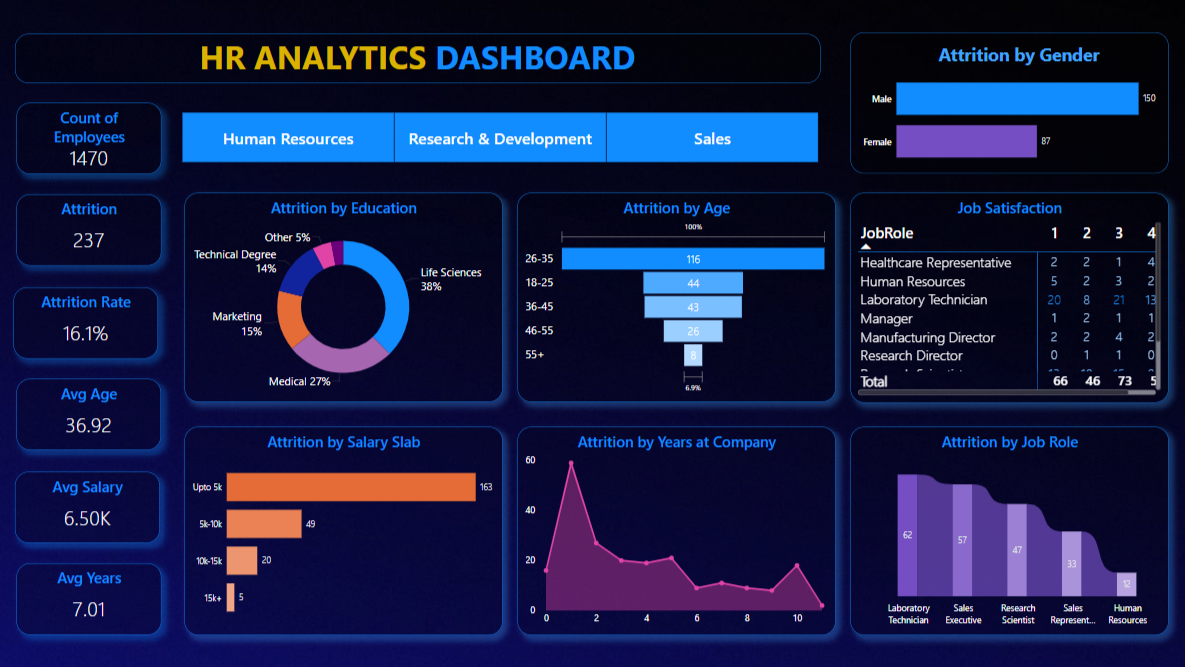

The page's visual inventory and layout, read from the dashboard file:
{"tool":"powerbi","page":{"name":"Page 1","canvas":[2200,1238],"ordinal":0},"visuals":[{"type":"textbox","box":[50.1,67.5,1468.7,90.3],"z":0},{"type":"card","title":"Count of Employees","fields":{"Values":["CountNonNull(HR_Analytics.EmpID)"]},"box":[50.4,194.6,263.7,130],"z":1000,"group":"g2"},{"type":"slicer","fields":{"Values":["HR_Analytics.Department"]},"box":[334.6,205.9,1203.4,103.9],"z":1000},{"type":"group","id":"g1","title":"Group 2","box":[1571.9,65.7,579.8,306.3],"z":2000},{"type":"group","id":"g2","title":"Group 3","box":[45.2,194.6,269,970],"z":3000},{"type":"card","title":"Attrition","fields":{"Values":["Sum(HR_Analytics.AttritionCount)"]},"box":[50.4,362.5,263.7,130],"z":3000,"group":"g2"},{"type":"donutChart","title":"Attrition by Education","fields":{"Category":["HR_Analytics.EducationField"],"Y":["Sum(HR_Analytics.AttritionCount)"]},"box":[358.5,358.6,579.7,381.2],"z":4000,"group":"g3"},{"type":"card","title":"Attrition Rate","fields":{"Values":["HR_Analytics.AttritionRate"]},"box":[45.2,530.4,263,130],"z":5000,"group":"g2"},{"type":"card","title":"Avg Age","fields":{"Values":["Avg(HR_Analytics.Age)"]},"box":[50.4,698.3,263,130],"z":6000,"group":"g2"},{"type":"barChart","title":"Attrition by Salary Slab","fields":{"Category":["HR_Analytics.SalarySlab"],"Y":["Sum(HR_Analytics.AttritionCount)"]},"box":[358.3,785,579.8,380.2],"z":7000,"group":"g3"},{"type":"barChart","title":"Attrition by Gender","fields":{"Category":["HR_Analytics.Gender"],"Y":["Sum(HR_Analytics.AttritionCount)"]},"box":[1588.5,73.6,550.7,298.4],"z":8000,"group":"g4"},{"type":"card","title":"Avg Years","fields":{"Values":["Avg(HR_Analytics.YearsAtCompany)"]},"box":[50.4,1034.1,263.7,130.6],"z":8000,"group":"g2"},{"type":"card","title":"Avg Salary","fields":{"Values":["Avg(HR_Analytics.MonthlyIncome)"]},"box":[47.8,866.2,263.7,130],"z":9000,"group":"g2"},{"type":"ribbonChart","title":"Attrition by Job Role","fields":{"Category":["HR_Analytics.JobRole"],"Y":["Sum(HR_Analytics.AttritionCount)"]},"box":[1572.6,785,579.8,380.2],"z":10000,"group":"g3"},{"type":"funnel","title":"Attrition by Age","fields":{"Category":["HR_Analytics.AgeGroup"],"Y":["Sum(HR_Analytics.AttritionCount)"]},"box":[966,358.6,579.7,381.2],"z":11000,"group":"g3"},{"type":"areaChart","title":"Attrition by Years at Company","fields":{"Category":["HR_Analytics.YearsAtCompany"],"Y":["Sum(HR_Analytics.AttritionCount)"]},"box":[965.5,785,579.8,380.2],"z":12000,"group":"g3"},{"type":"pivotTable","title":"Job Satisfaction","fields":{"Rows":["HR_Analytics.JobRole"],"Columns":["HR_Analytics.JobSatisfaction"],"Values":["Sum(HR_Analytics.AttritionCount)"]},"box":[1573.5,358,579.8,382.9],"z":13000,"group":"g3"},{"type":"group","id":"g3","title":"Group 4","box":[358.3,358,1795.1,807.1],"z":13001},{"type":"shape","box":[1571.9,65.7,579.8,256.1],"z":13002,"group":"g4"},{"type":"group","id":"g4","title":"Group 1","box":[1571.9,65.7,579.8,306.3],"z":14000,"group":"g1"},{"type":"textbox","box":[1611.9,80.7,537.9,70.5],"z":15000,"group":"g1"}]}

Visuals, with their boxes in screenshot pixels (x1, y1, x2, y2), scaled from the page's 2200x1238 canvas onto the 1185x667 screenshot:
textbox: locate(27, 36, 818, 85)
"Count of Employees" card: locate(27, 105, 169, 175)
slicer - HR_Analytics.Department: locate(180, 111, 828, 167)
"Group 2" group: locate(847, 35, 1159, 200)
"Group 3" group: locate(24, 105, 169, 627)
"Attrition" card: locate(27, 195, 169, 265)
"Attrition by Education" donutChart: locate(193, 193, 505, 399)
"Attrition Rate" card: locate(24, 286, 166, 356)
"Avg Age" card: locate(27, 376, 169, 446)
"Attrition by Salary Slab" barChart: locate(193, 423, 505, 628)
"Attrition by Gender" barChart: locate(856, 40, 1152, 200)
"Avg Years" card: locate(27, 557, 169, 628)
"Avg Salary" card: locate(26, 467, 168, 537)
"Attrition by Job Role" ribbonChart: locate(847, 423, 1159, 628)
"Attrition by Age" funnel: locate(520, 193, 833, 399)
"Attrition by Years at Company" areaChart: locate(520, 423, 832, 628)
"Job Satisfaction" pivotTable: locate(848, 193, 1160, 399)
"Group 4" group: locate(193, 193, 1160, 628)
shape: locate(847, 35, 1159, 173)
"Group 1" group: locate(847, 35, 1159, 200)
textbox: locate(868, 43, 1158, 81)
